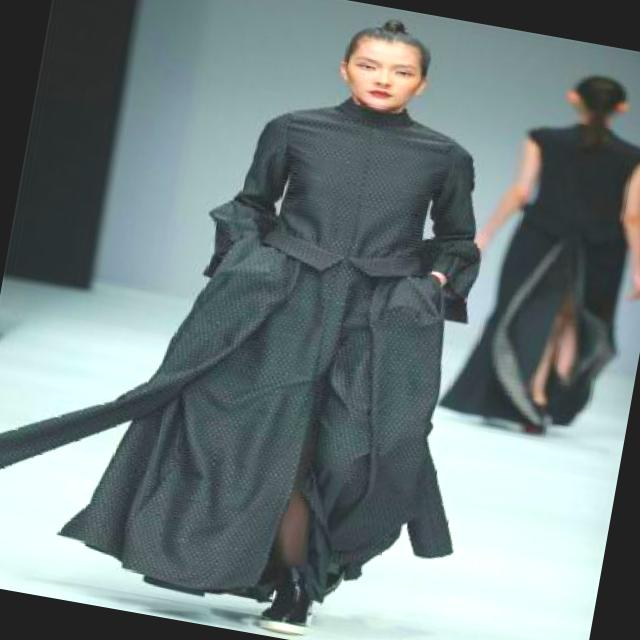Person: (78, 0, 535, 640)
